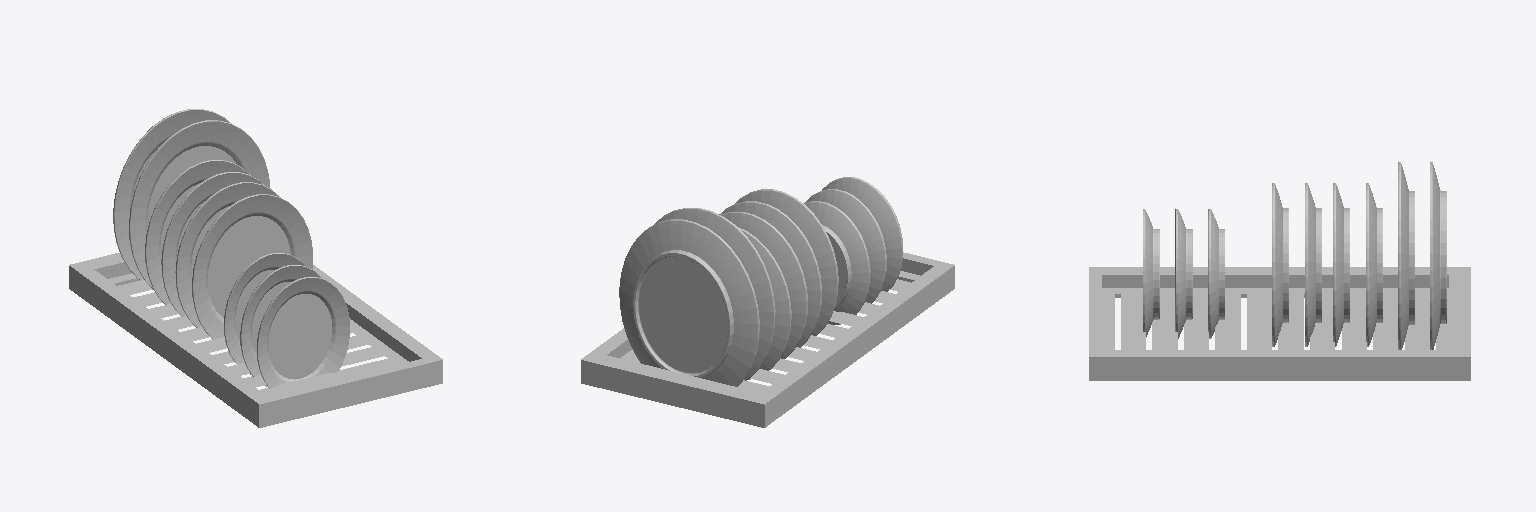
File: DishRack.obj
3 renders of one model, left to right at view 1: azimuth 30°, elevation 25°; view 2: azimuth 150°, elevation 25°; view 3: azimuth 270°, elevation 25°, orthographic.
Parts seen in each view (by area): view 1: Layer0_001, Group_003, Group_004, Group_002, Group_001, Group_009, Group_007, Group_008, Group_005, Group_006; view 2: Group_001, Layer0_001, Group_002, Group_006, Group_003, Group_008, Group_007, Group_004, Group_005, Group_009; view 3: Layer0_001, Group_002, Group_001, Group_003, Group_008, Group_009, Group_007, Group_005, Group_006, Group_004.
Part boxes in pixels (left/top/right/bottom): Layer0_001: left=69, top=253, right=442, bottom=427; Group_003: left=192, top=194, right=312, bottom=339; Group_004: left=257, top=277, right=349, bottom=388; Group_002: left=129, top=120, right=270, bottom=289; Group_001: left=113, top=109, right=231, bottom=279; Group_009: left=145, top=160, right=249, bottom=304; Group_007: left=175, top=182, right=280, bottom=327; Group_008: left=161, top=172, right=264, bottom=316; Group_005: left=240, top=265, right=321, bottom=386; Group_006: left=224, top=253, right=304, bottom=374; Group_001: left=619, top=219, right=759, bottom=386; Layer0_001: left=581, top=252, right=954, bottom=427; Group_002: left=654, top=208, right=775, bottom=380; Group_006: left=804, top=201, right=870, bottom=324; Group_003: left=735, top=189, right=838, bottom=335; Group_008: left=721, top=212, right=807, bottom=358; Group_007: left=719, top=201, right=821, bottom=347; Group_004: left=822, top=177, right=902, bottom=291; Group_005: left=805, top=189, right=886, bottom=303; Group_009: left=738, top=227, right=791, bottom=379; Layer0_001: left=1089, top=267, right=1470, bottom=380; Group_002: left=1398, top=162, right=1414, bottom=349; Group_001: left=1430, top=162, right=1446, bottom=349; Group_003: left=1272, top=183, right=1288, bottom=346; Group_008: left=1333, top=183, right=1349, bottom=346; Group_009: left=1366, top=183, right=1382, bottom=346; Group_007: left=1305, top=183, right=1321, bottom=346; Group_005: left=1175, top=209, right=1192, bottom=338; Group_006: left=1208, top=209, right=1224, bottom=338; Group_004: left=1143, top=209, right=1159, bottom=336.
Bounding box in the file's own units: 8.9 × 8.25 × 16.